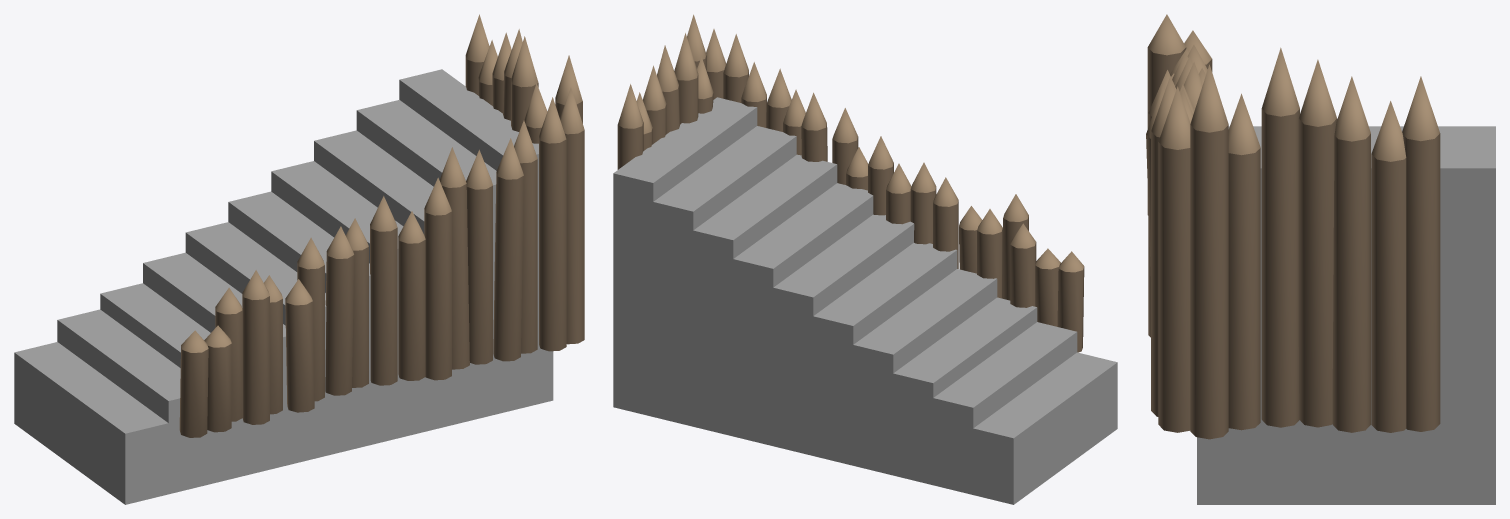
The model's file is Stair_R.fbx.
3 views of the same model, side by side, from view 1: azimuth 30°, elevation 25°; view 2: azimuth 150°, elevation 25°; view 3: azimuth 270°, elevation 25° (orthographic). The views are drawn at different scales.
Visible parts, largest first — view 1: pCube2, Cylinder.010 (×2), Cylinder.084, Cylinder.089, Cylinder.095, Cylinder.091, Cylinder.001, Cylinder.092, Cylinder.007, Cylinder.097, Cylinder.087, Cylinder.017 (+15 smaller); view 2: pCube2, Cylinder.009 (×2), Cylinder.007 (×2), Cylinder.103, Cylinder.098, Cylinder.015, Cylinder.101, Cylinder.104, Cylinder.097, Cylinder.001, Cylinder.010, Cylinder.005 (+12 smaller); view 3: pCube2, Cylinder.015, Cylinder.009, Cylinder.005, Cylinder.007, Cylinder.010 (×2), Cylinder.104, Cylinder.001, Cylinder.017, Cylinder.084, Cylinder.011 (×2), Cylinder.008 (+9 smaller).
Part boxes in pixels (bbox=[...]): pCube2: bbox=[14, 69, 553, 504]; Cylinder.010 (×2): bbox=[242, 130, 584, 424]; Cylinder.084: bbox=[539, 137, 566, 351]; Cylinder.089: bbox=[493, 172, 523, 361]; Cylinder.095: bbox=[424, 209, 451, 380]; Cylinder.091: bbox=[466, 185, 492, 364]; Cylinder.001: bbox=[370, 225, 397, 385]; Cylinder.092: bbox=[398, 237, 425, 380]; Cylinder.007: bbox=[325, 252, 354, 395]; Cylinder.097: bbox=[442, 184, 469, 369]; Cylinder.087: bbox=[520, 159, 537, 353]; Cylinder.017: bbox=[285, 299, 314, 412]; pCube2: bbox=[613, 97, 1117, 504]; Cylinder.009 (×2): bbox=[677, 75, 958, 268]; Cylinder.007 (×2): bbox=[662, 86, 936, 244]; Cylinder.103: bbox=[1057, 267, 1084, 352]; Cylinder.098: bbox=[1010, 242, 1036, 307]; Cylinder.015: bbox=[977, 228, 1002, 298]; Cylinder.101: bbox=[1035, 265, 1058, 326]; Cylinder.104: bbox=[617, 122, 643, 169]; Cylinder.097: bbox=[801, 124, 827, 161]; Cylinder.001: bbox=[868, 163, 893, 215]; Cylinder.010: bbox=[1003, 215, 1028, 300]; Cylinder.005: bbox=[886, 190, 910, 224]; pCube2: bbox=[1197, 126, 1495, 504]; Cylinder.015: bbox=[1190, 125, 1228, 439]; Cylinder.009: bbox=[1261, 109, 1299, 427]; Cylinder.005: bbox=[1332, 134, 1370, 432]; Cylinder.007: bbox=[1298, 118, 1337, 427]; Cylinder.010 (×2): bbox=[1147, 47, 1190, 432]; Cylinder.104: bbox=[1403, 133, 1440, 431]; Cylinder.001: bbox=[1371, 154, 1406, 432]; Cylinder.017: bbox=[1228, 148, 1260, 430]; Cylinder.084: bbox=[1151, 131, 1159, 416]; Cylinder.011 (×2): bbox=[1148, 14, 1190, 149]; Cylinder.008: bbox=[1261, 47, 1299, 116].
Bounding box in the file's own units: 4.79 × 3.39 × 2.34.
